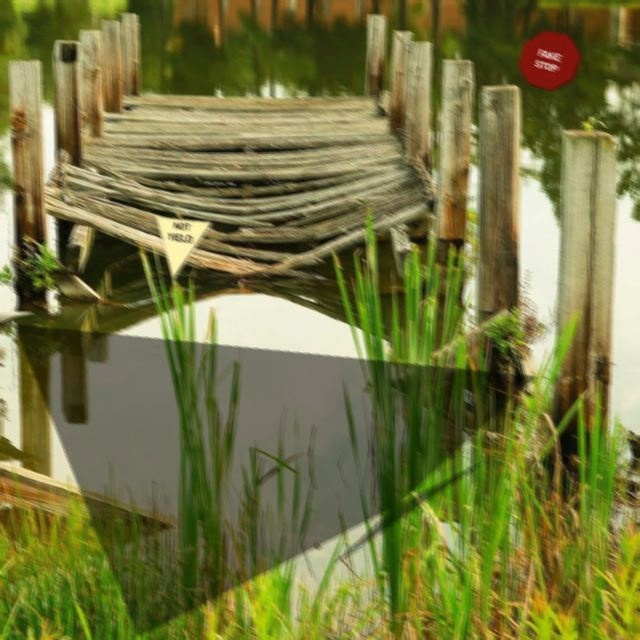FAKE_STOP: (517, 29, 582, 91)
NOT_YIELD: (155, 216, 213, 281)
